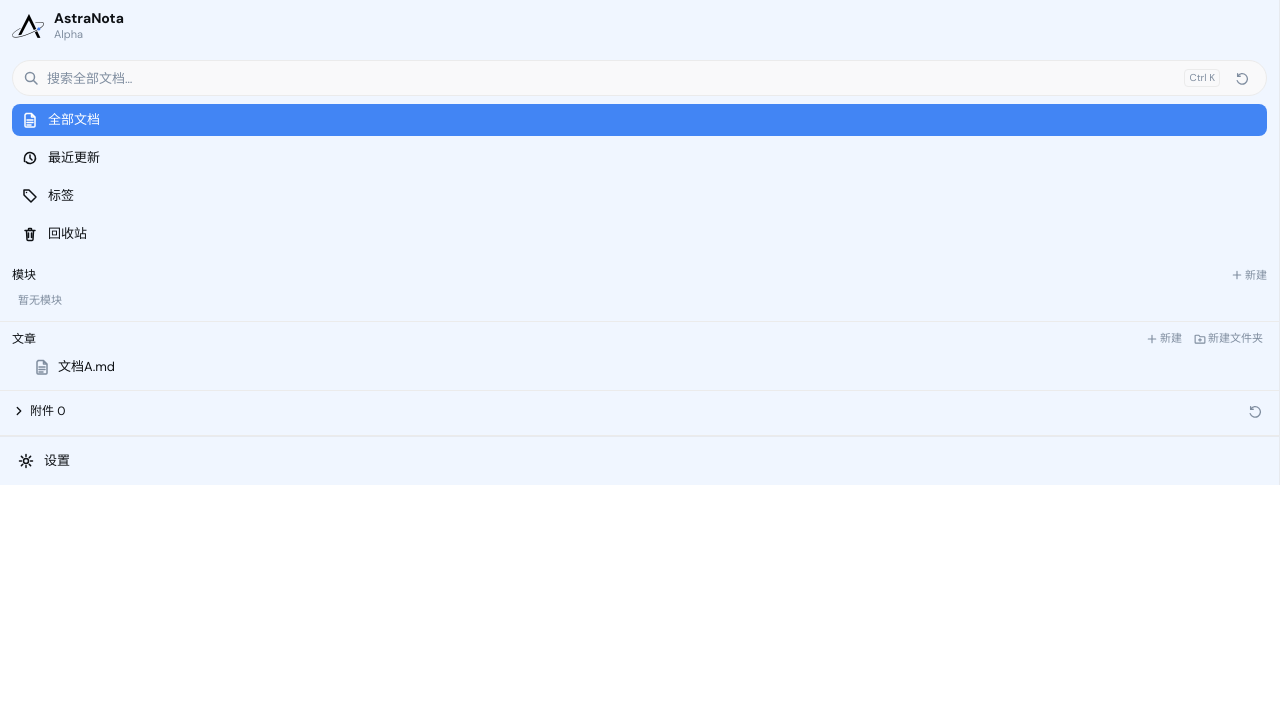
L-2 数据源迁移 › 0 附件：收起态不显示空态文案，展开后显示「暂无附件」
Click the button "附件 0" at (39, 410), box 12,402 -> 65,420
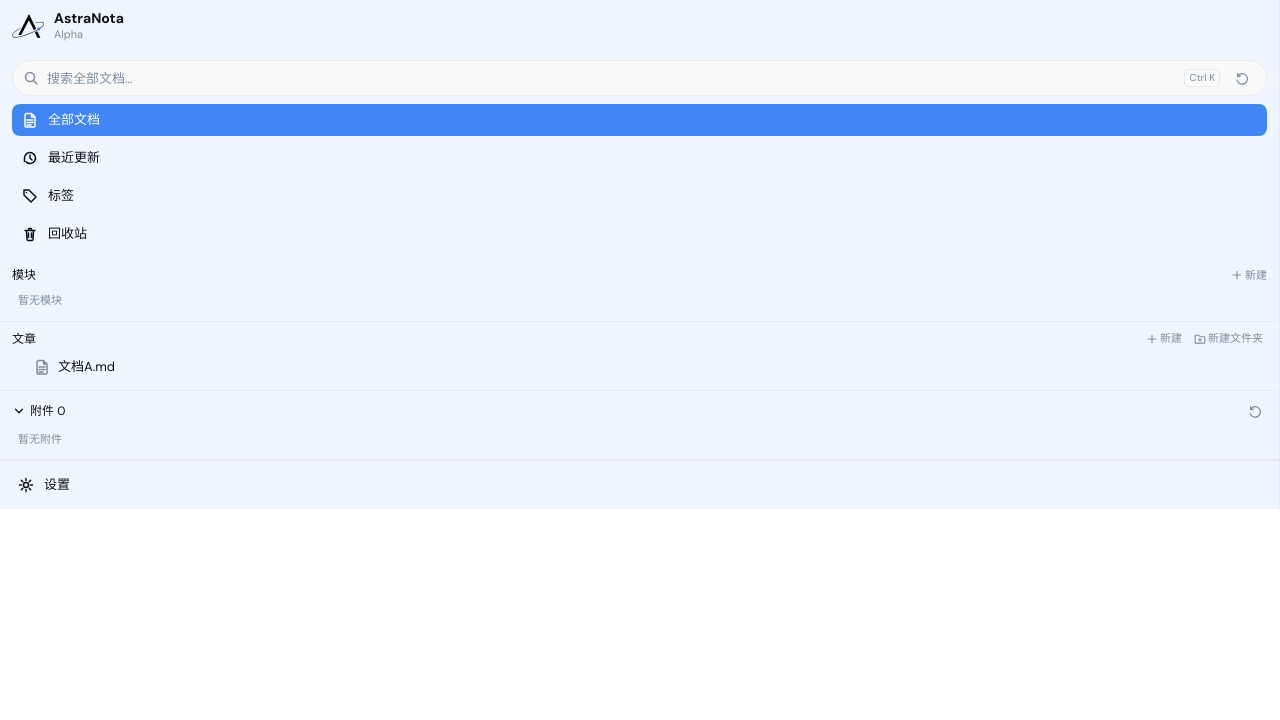
Expected: the text "暂无附件" is shown, 18,432 -> 62,446
